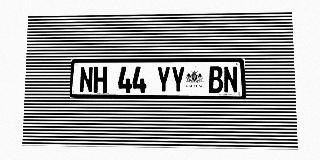4: (118, 66, 132, 93), (132, 66, 146, 93)
B: (208, 66, 223, 93)
H: (93, 66, 107, 93)
N: (223, 66, 238, 93), (79, 67, 93, 93)
Y: (156, 66, 170, 93), (171, 66, 185, 93)
